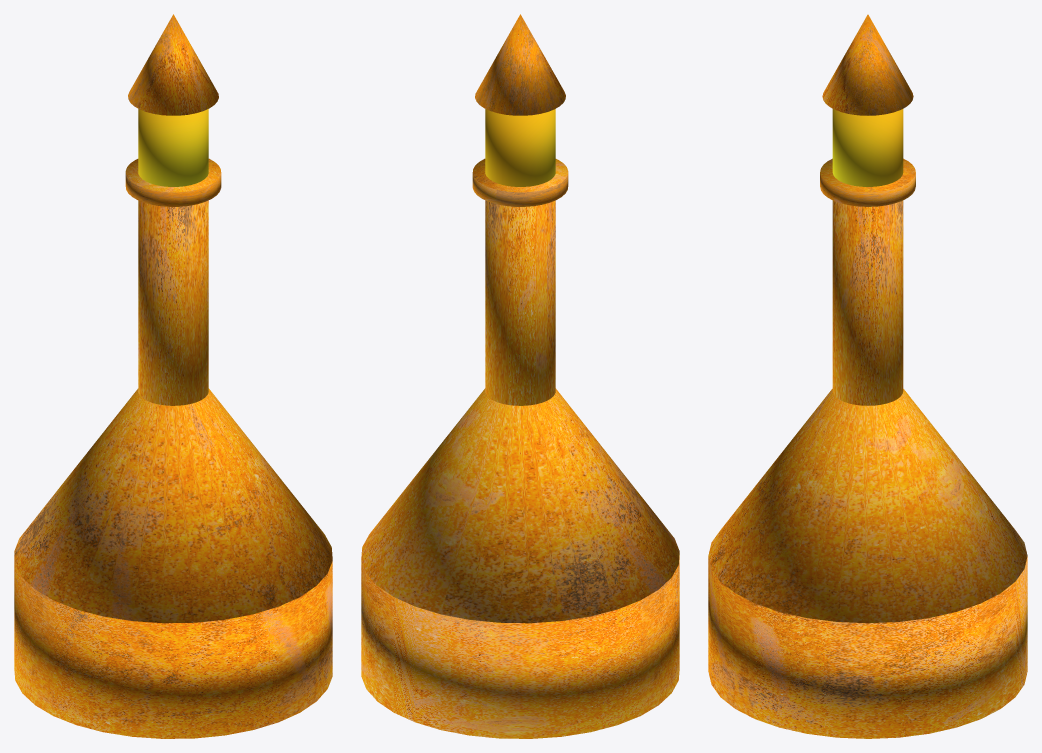
File: Żółta Boja morska.fbx
The picture shows the model from 3 angles, left to right: view 1: azimuth 30°, elevation 25°; view 2: azimuth 150°, elevation 25°; view 3: azimuth 270°, elevation 25°; orthographic projection.
Visible parts, largest first — view 1: Cylinder.001, Cylinder, Cylinder.002, Cone, Cylinder.004, Cylinder.003; view 2: Cylinder.001, Cylinder, Cylinder.002, Cone, Cylinder.004, Cylinder.003; view 3: Cylinder.001, Cylinder, Cylinder.002, Cone, Cylinder.004, Cylinder.003.
Boxes of the visible parts, x1,y1,x2,y2 form: Cylinder.001: (14,388,332,623); Cylinder: (14,555,332,738); Cylinder.002: (138,200,208,405); Cone: (128,14,218,115); Cylinder.004: (138,109,208,186); Cylinder.003: (125,158,221,206); Cylinder.001: (361,388,679,623); Cylinder: (361,555,679,738); Cylinder.002: (485,200,555,405); Cone: (475,14,565,115); Cylinder.004: (485,109,555,186); Cylinder.003: (472,158,568,206); Cylinder.001: (708,389,1027,623); Cylinder: (708,556,1027,738); Cylinder.002: (832,200,903,405); Cone: (822,14,913,115); Cylinder.004: (832,109,903,186); Cylinder.003: (820,158,915,206).
Bounding box in the file's own units: 200 × 455 × 200.
Materials: 2 (2 with a texture image).
